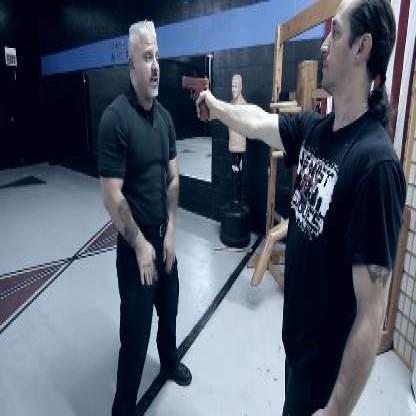pistol: (180, 74, 210, 122)
